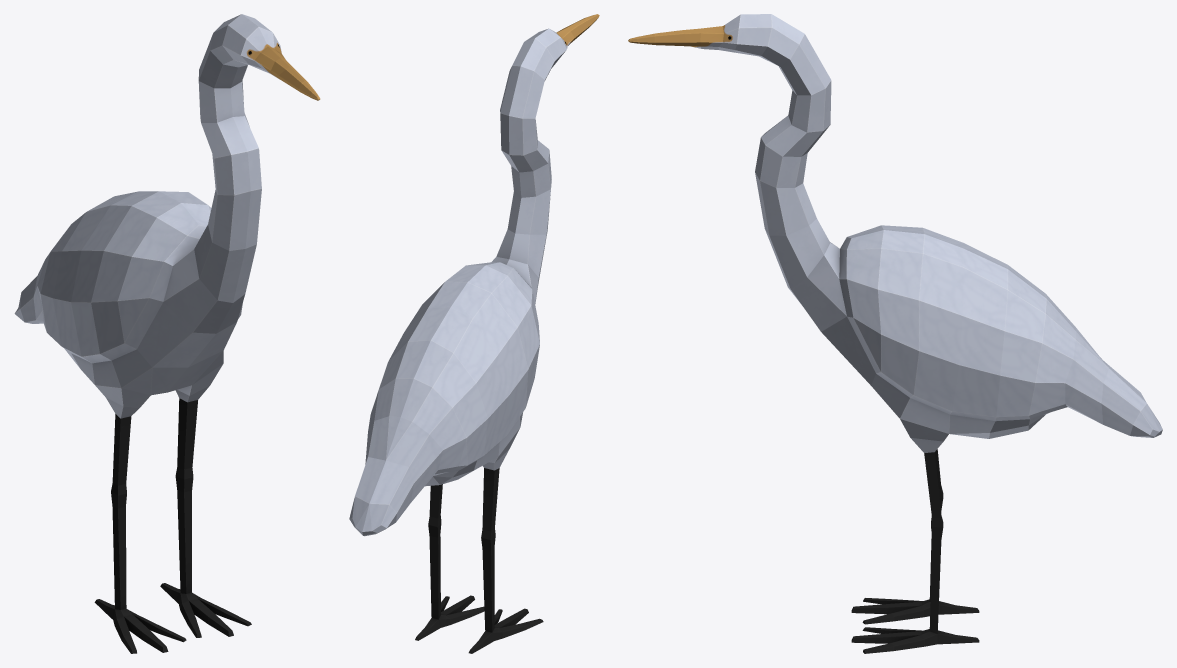
Rendered from Great egret.glb.
3 renders of one model, left to right at view 1: azimuth 30°, elevation 25°; view 2: azimuth 150°, elevation 25°; view 3: azimuth 270°, elevation 25°, orthographic. The views are drawn at different scales.
Visible parts, largest first — view 1: GreatEgret_Mesh; view 2: GreatEgret_Mesh; view 3: GreatEgret_Mesh.
Boxes of the visible parts, left/top/right/bottom form: GreatEgret_Mesh: left=14, top=14, right=320, bottom=653; GreatEgret_Mesh: left=349, top=14, right=599, bottom=653; GreatEgret_Mesh: left=628, top=14, right=1162, bottom=653.
Bounding box in the file's own units: 1.04 × 4.63 × 3.66.
1 material, 1 textured.
